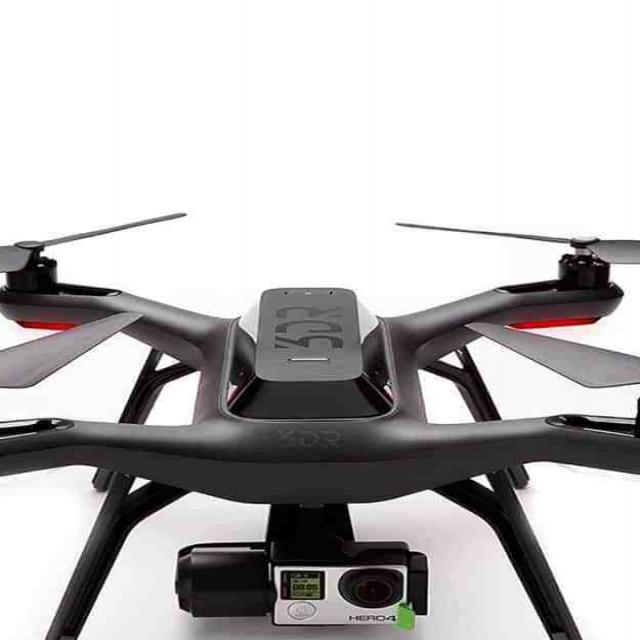drone: (0, 188, 640, 564)
